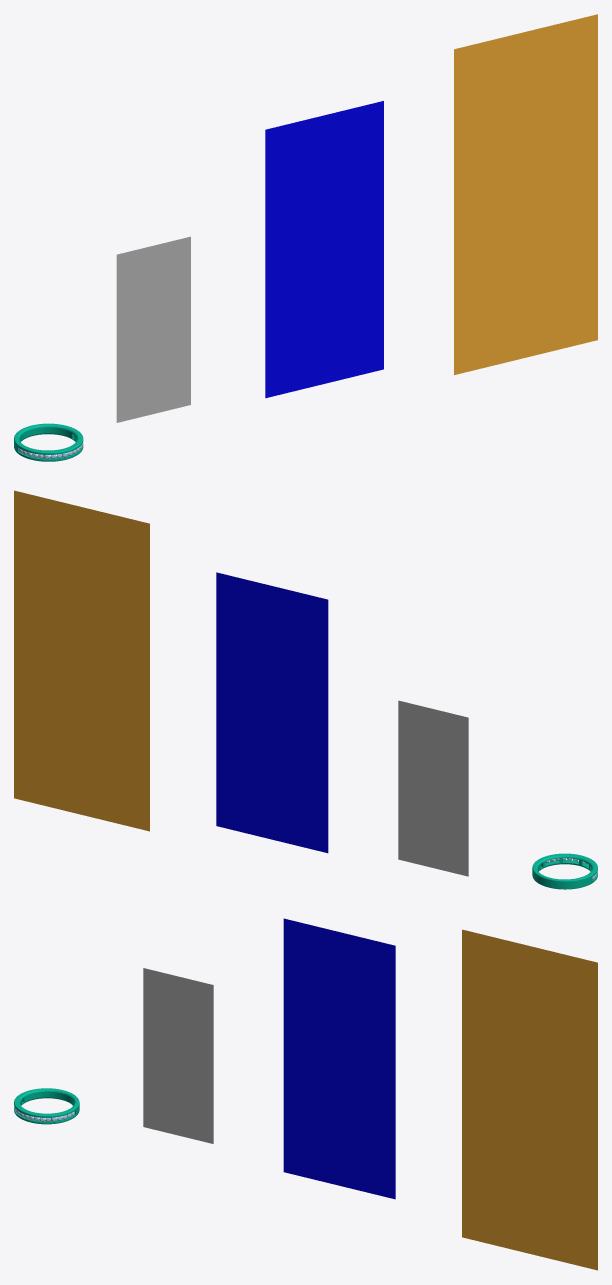
3 renders of one model, top to bottom at view 1: azimuth 30°, elevation 25°; view 2: azimuth 150°, elevation 25°; view 3: azimuth 330°, elevation 25°, orthographic. The views are drawn at different scales.
Parts seen in each view (by area): view 1: BAND RING CHANNEL SETTING(base).3dm; view 2: BAND RING CHANNEL SETTING(base).3dm; view 3: BAND RING CHANNEL SETTING(base).3dm.
Boxes of the visible parts, x1=… form: BAND RING CHANNEL SETTING(base).3dm: x1=14, y1=14, x2=597, y2=461; BAND RING CHANNEL SETTING(base).3dm: x1=14, y1=490, x2=597, y2=889; BAND RING CHANNEL SETTING(base).3dm: x1=14, y1=918, x2=597, y2=1270.
Bounding box in the file's own units: 27.91 × 14.58 × 2.81.
